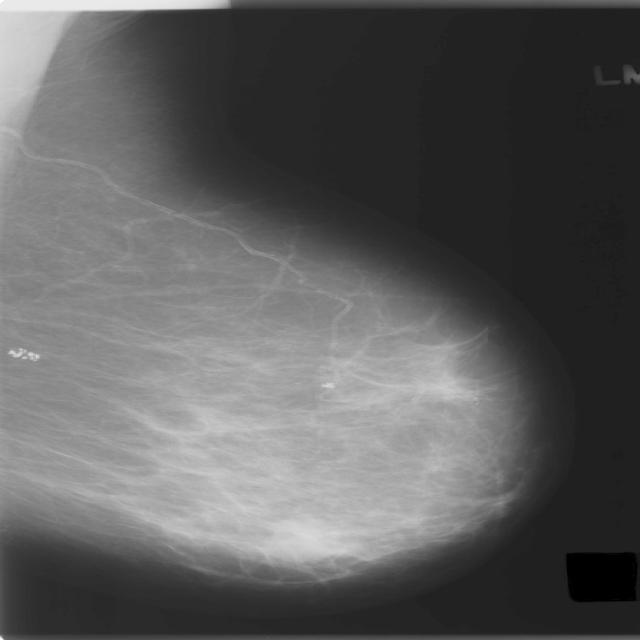tumour: (254, 517, 349, 565)
